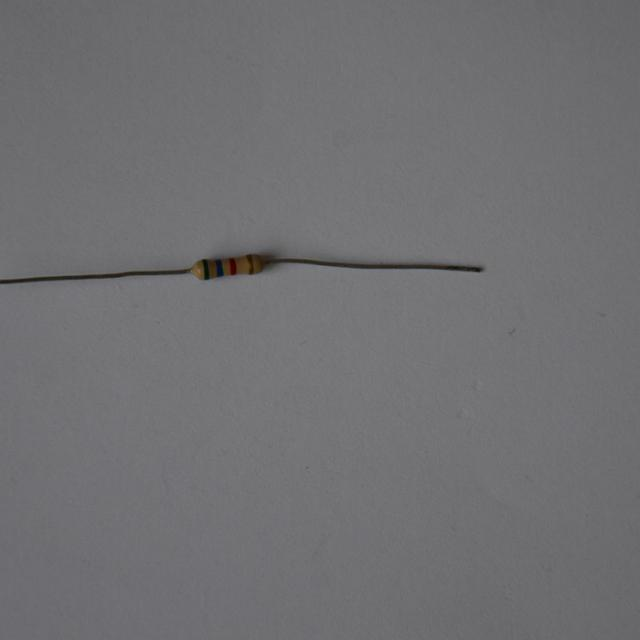blue: (215, 260, 221, 275)
gold: (247, 255, 251, 273)
green: (203, 259, 208, 278)
red: (229, 257, 235, 273)
resistor: (188, 249, 267, 287)
